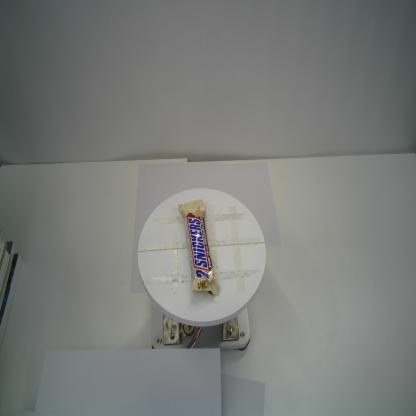Chocolate: (177, 197, 221, 299)
